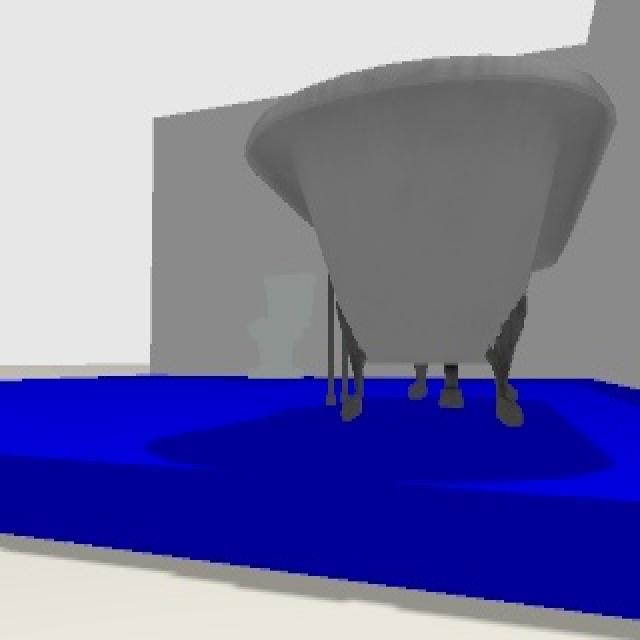bathtub: (242, 59, 618, 429)
